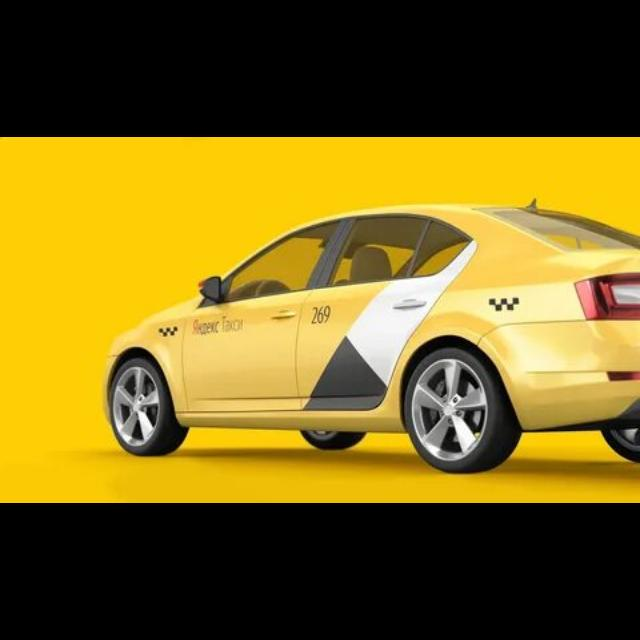taxi: (104, 199, 640, 476)
